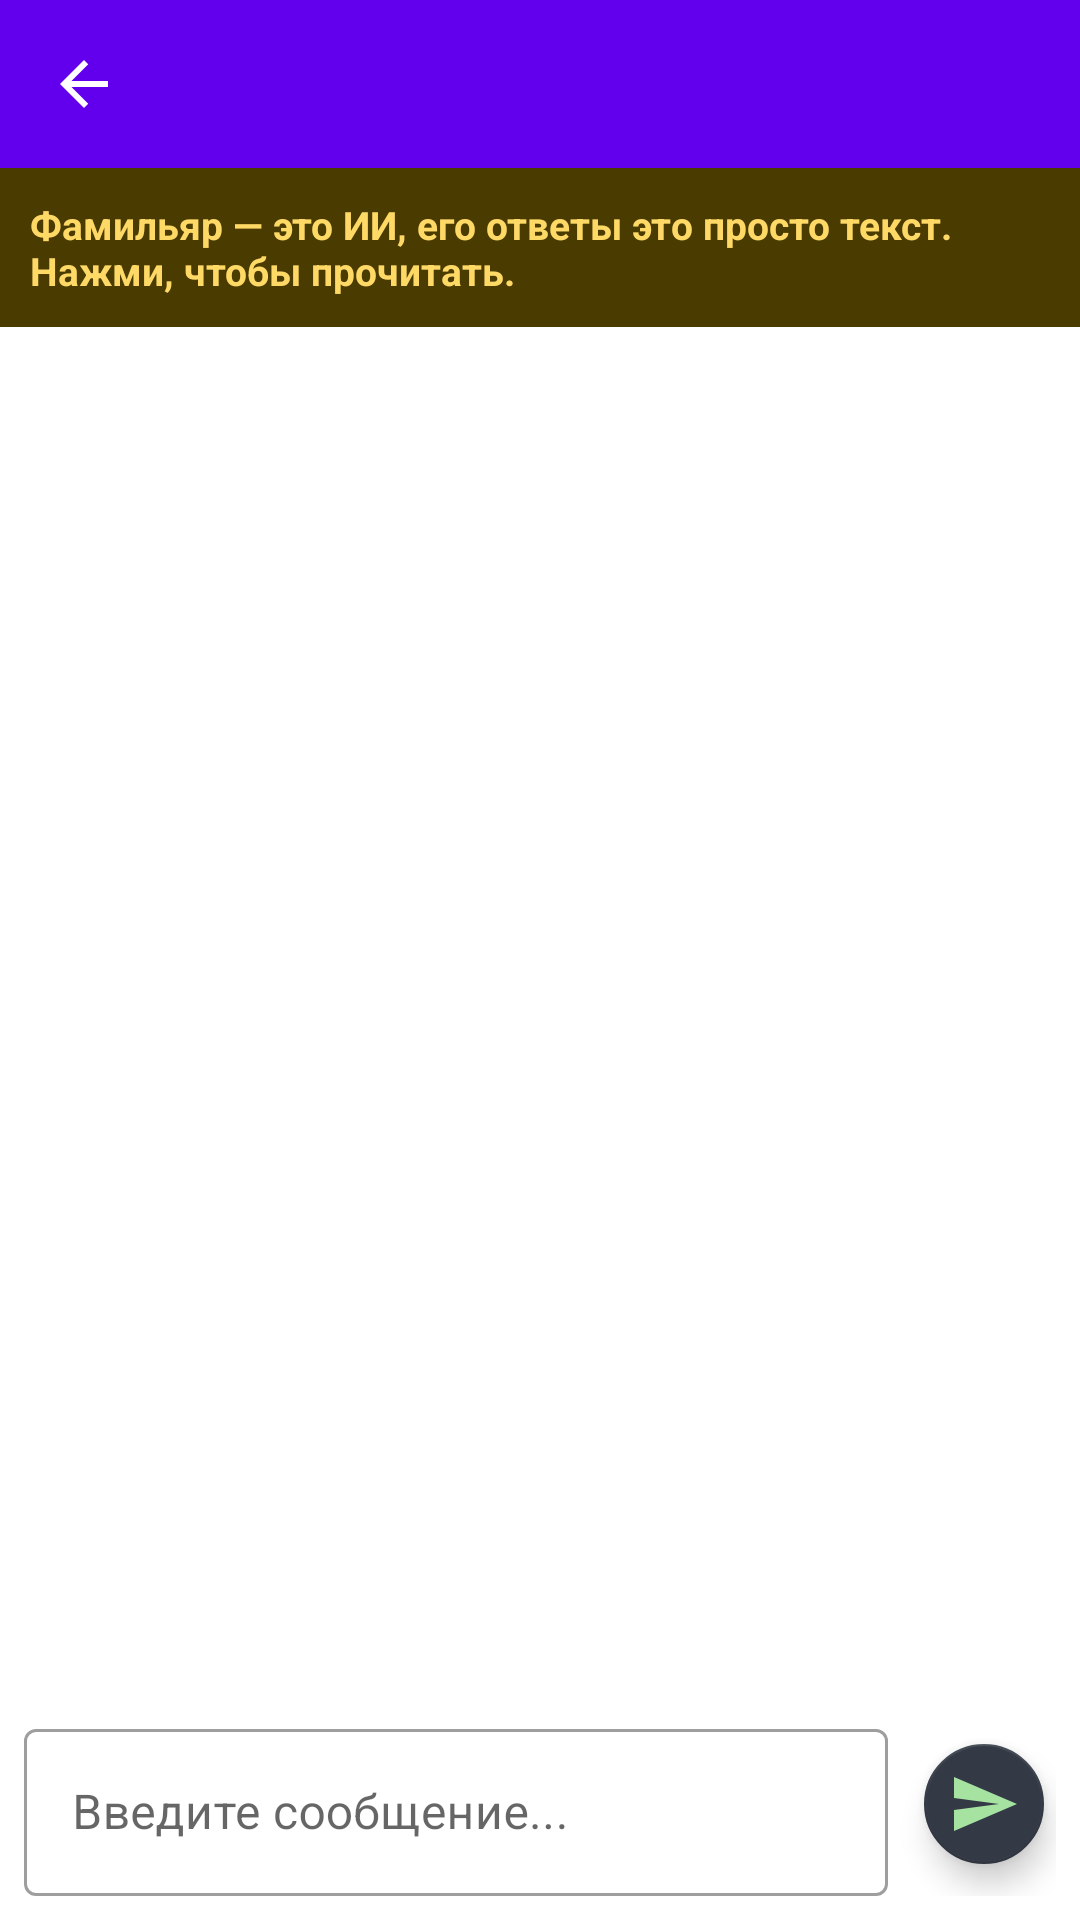

Icons on this 1080*1920 Android screen, each with the point to tap as point (x, y):
send: point (985, 1810)
